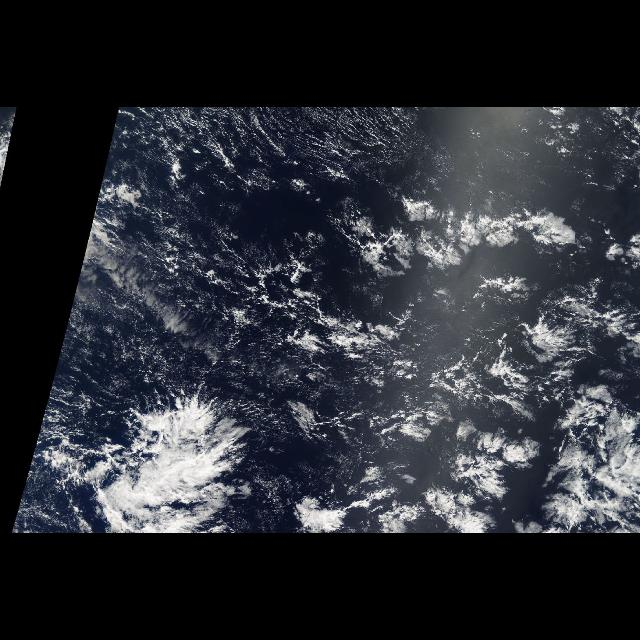Sugar: (117, 108, 553, 218)
